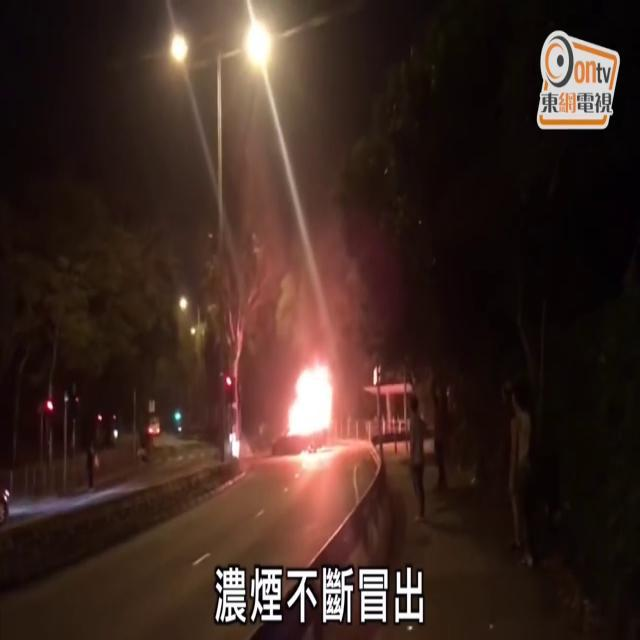Fire: (282, 344, 342, 452)
Smoke: (238, 30, 372, 325)
